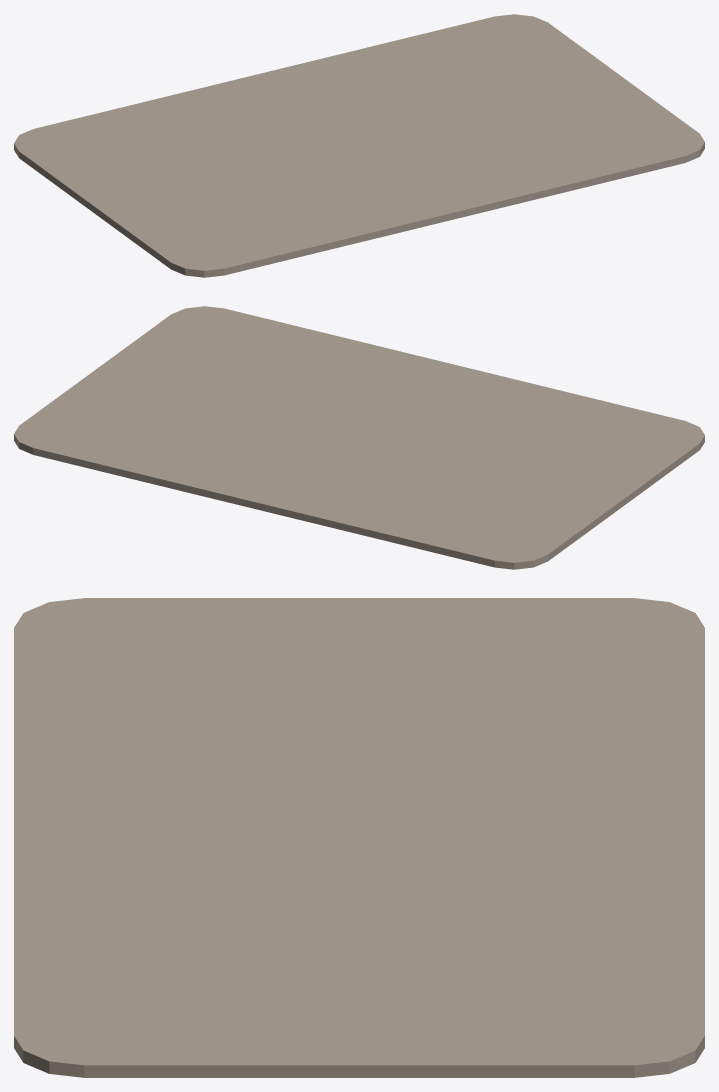
Rendered from Carpet_05.fbx.
3 renders of one model, top to bottom at view 1: azimuth 30°, elevation 25°; view 2: azimuth 150°, elevation 25°; view 3: azimuth 270°, elevation 25°, orthographic. The views are drawn at different scales.
Parts seen in each view (by area): view 1: Carpet_05; view 2: Carpet_05; view 3: Carpet_05.
Part boxes in pixels (x1,y1,x2,y2): Carpet_05: (14, 14, 704, 277); Carpet_05: (14, 306, 704, 569); Carpet_05: (14, 598, 704, 1077).
Bounding box in the file's own units: 80 × 1 × 50.
